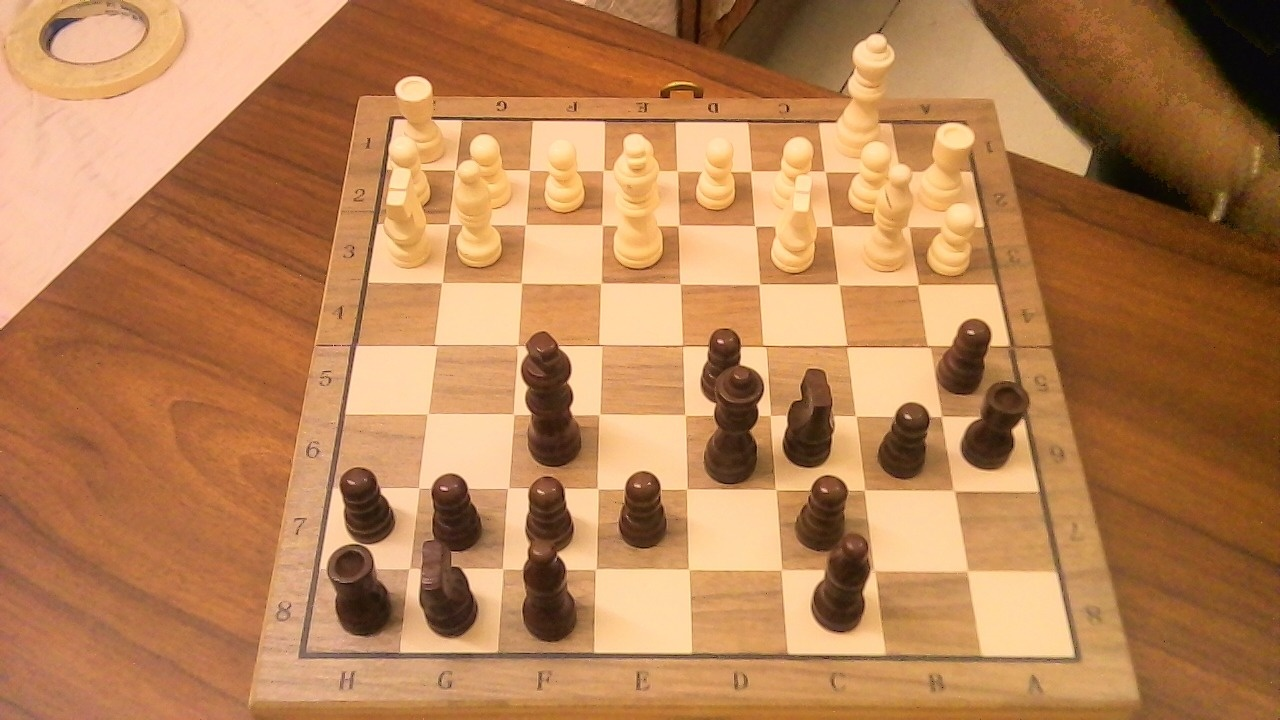B: (855, 154, 923, 277), (449, 149, 513, 271)
K: (606, 124, 674, 271)
N: (763, 163, 830, 277), (393, 166, 437, 252)
P: (841, 132, 906, 219), (922, 194, 985, 278), (458, 126, 518, 213), (763, 128, 822, 215), (535, 129, 592, 217), (688, 128, 744, 215), (385, 127, 436, 211)
Q: (829, 21, 901, 164)
R: (918, 112, 983, 212), (390, 66, 451, 167)
b: (512, 540, 589, 646), (823, 520, 884, 638)
k: (517, 319, 594, 468)
n: (410, 528, 491, 641), (780, 354, 848, 470)
p: (331, 456, 405, 544), (873, 389, 942, 482), (422, 462, 493, 551), (937, 306, 1001, 397), (693, 320, 753, 404), (618, 470, 668, 550), (522, 477, 576, 550), (803, 475, 853, 550)
q: (697, 353, 775, 487)
r: (954, 369, 1038, 473), (323, 533, 402, 639)
